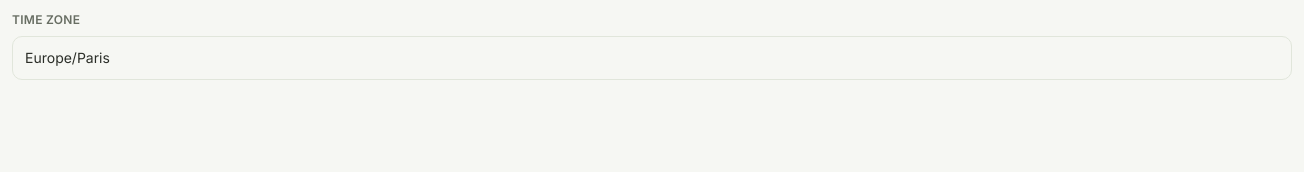
Test: TimeZoneSwitcher › chooses with the pointer and says when nothing matches
Later steps or results of the test are not shown.
Replace the text in the dropdown labelled "Time zone" with "zzz" at (652, 58), box [12, 36, 1292, 80]
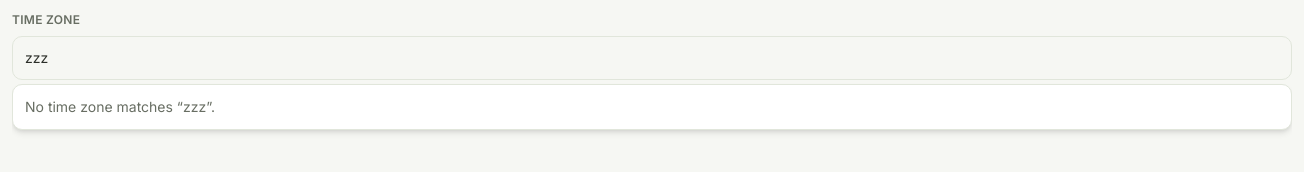
Check: the list item "No time zone matches “zzz”." is shown, box [25, 98, 215, 115]
